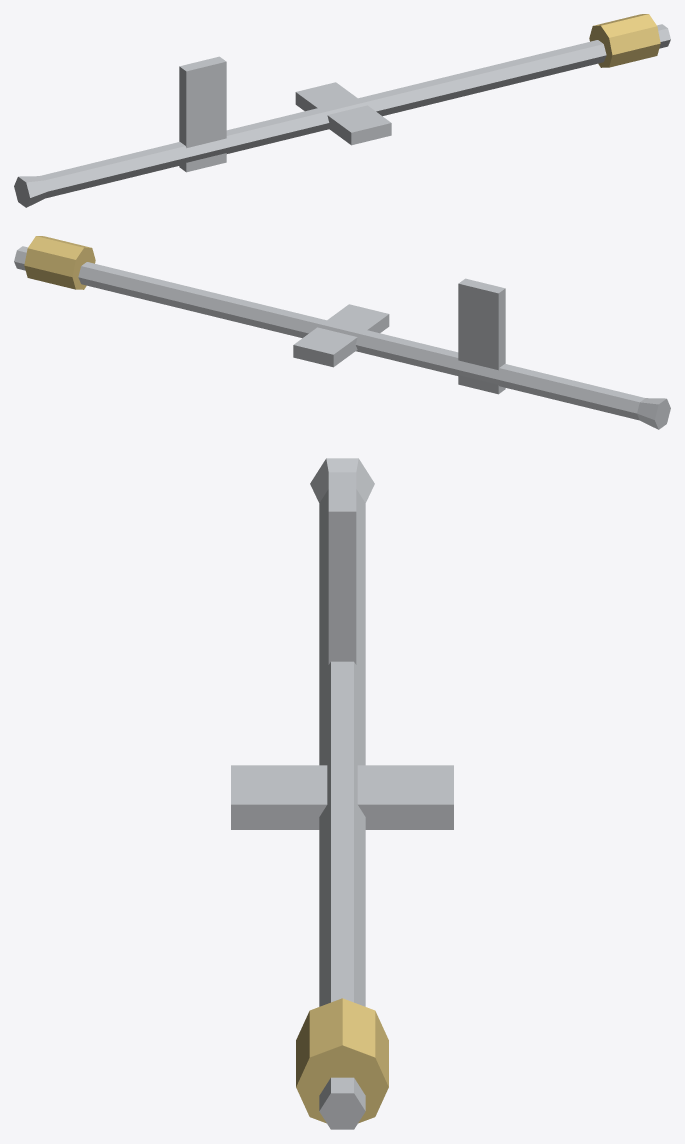
The model's file is prop-verge-pallet.fbx.
3 renders of one model, top to bottom at view 1: azimuth 30°, elevation 25°; view 2: azimuth 150°, elevation 25°; view 3: azimuth 270°, elevation 25°, orthographic. The views are drawn at different scales.
Parts seen in each view (by area): view 1: prop-verge-pallet; view 2: prop-verge-pallet; view 3: prop-verge-pallet.
Part boxes in pixels (left/top/right/bottom): prop-verge-pallet: left=14, top=14, right=670, bottom=207; prop-verge-pallet: left=14, top=236, right=670, bottom=429; prop-verge-pallet: left=231, top=458, right=453, bottom=1129.
Size of the model in its own units: 16 by 2.4 by 2.4.
